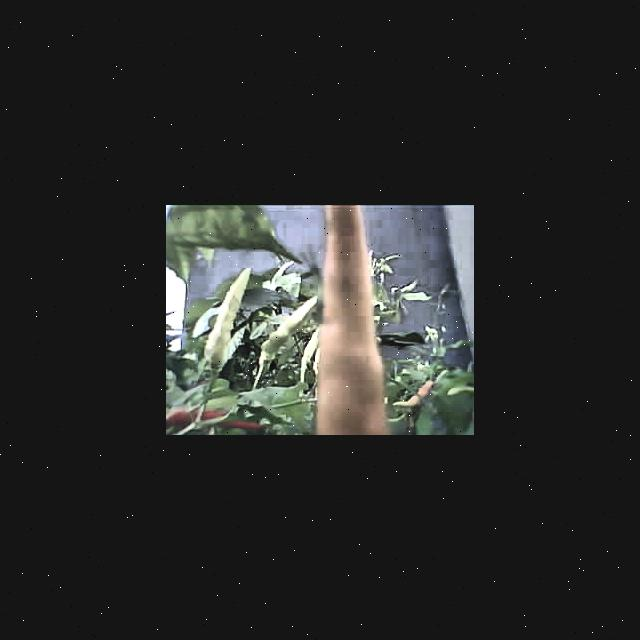Cabai: (319, 205, 386, 435), (166, 403, 269, 435)
